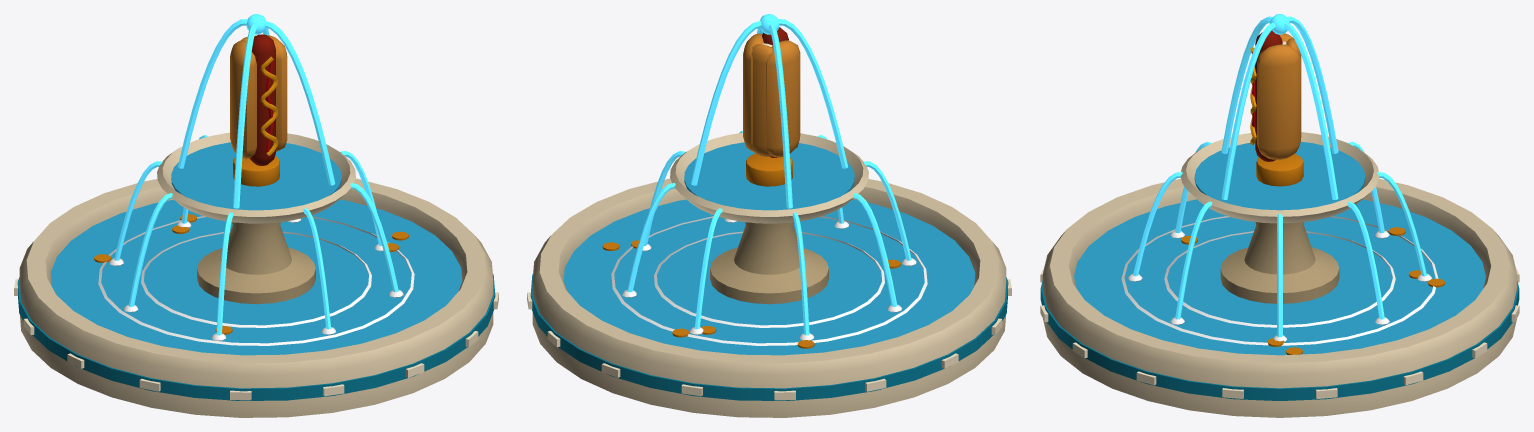
The model's file is Fountain.fbx.
The picture shows the model from 3 angles, left to right: view 1: azimuth 30°, elevation 25°; view 2: azimuth 150°, elevation 25°; view 3: azimuth 270°, elevation 25°; orthographic projection.
Visible parts, largest first — view 1: Fountain; view 2: Fountain; view 3: Fountain.
Boxes of the visible parts, left/top/right/bottom form: Fountain: left=14, top=14, right=498, bottom=417; Fountain: left=527, top=14, right=1011, bottom=417; Fountain: left=1040, top=14, right=1519, bottom=417.
Size of the model in its own units: 10.09 by 7.04 by 10.09.
